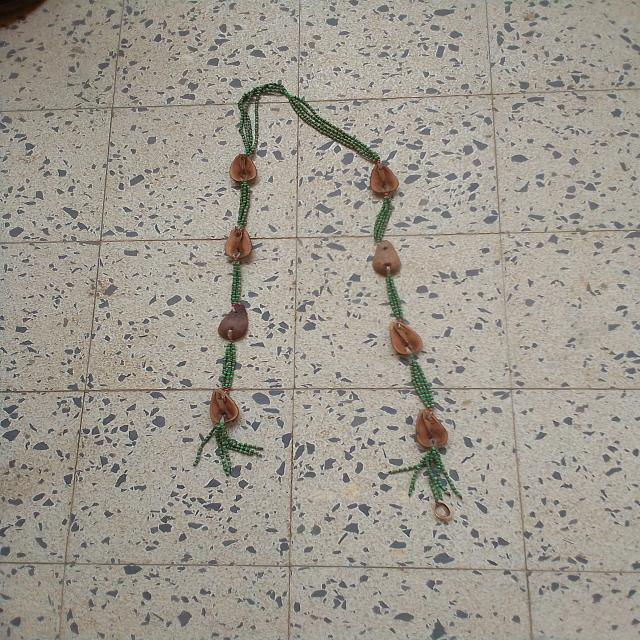facedown: (215, 302, 255, 342), (370, 238, 404, 280)
faceup: (378, 320, 424, 358), (204, 387, 243, 426), (413, 408, 450, 449), (220, 226, 256, 260), (225, 152, 261, 184), (368, 163, 400, 196)
